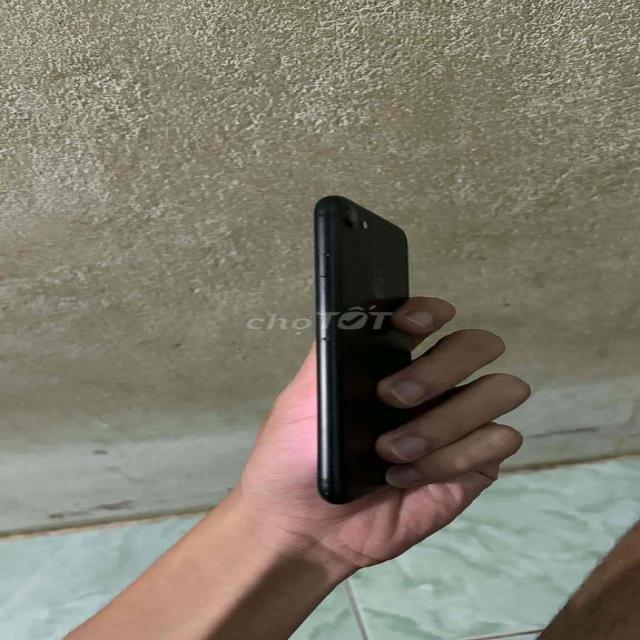gen_7_8: (300, 196, 432, 515)
